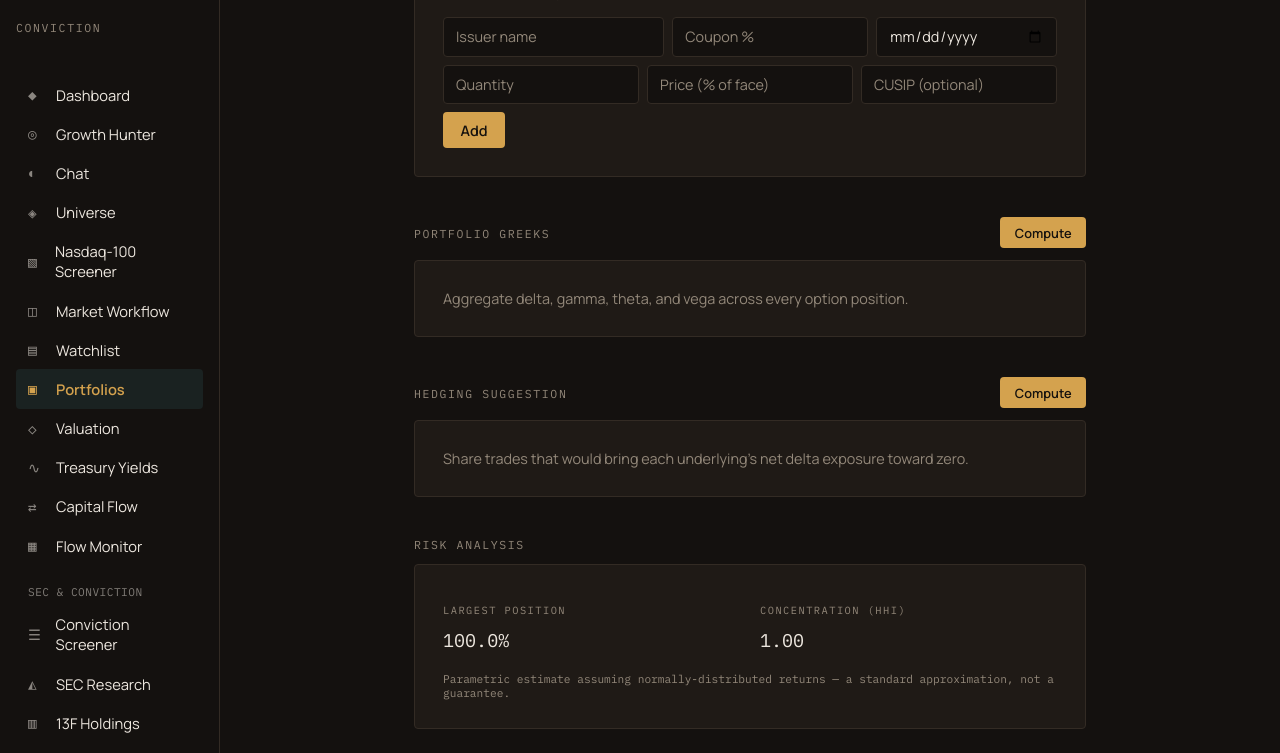
Test: Portfolio detail page › shows the hedging plan's note when there is nothing to hedge
(page scrolled)
Expected: the text "Hedging Suggestion" is shown, left=414, top=386, right=567, bottom=400
Click the button "Compute" in the row of "Hedging Suggestion" at (1043, 393), box left=1000, top=377, right=1086, bottom=408
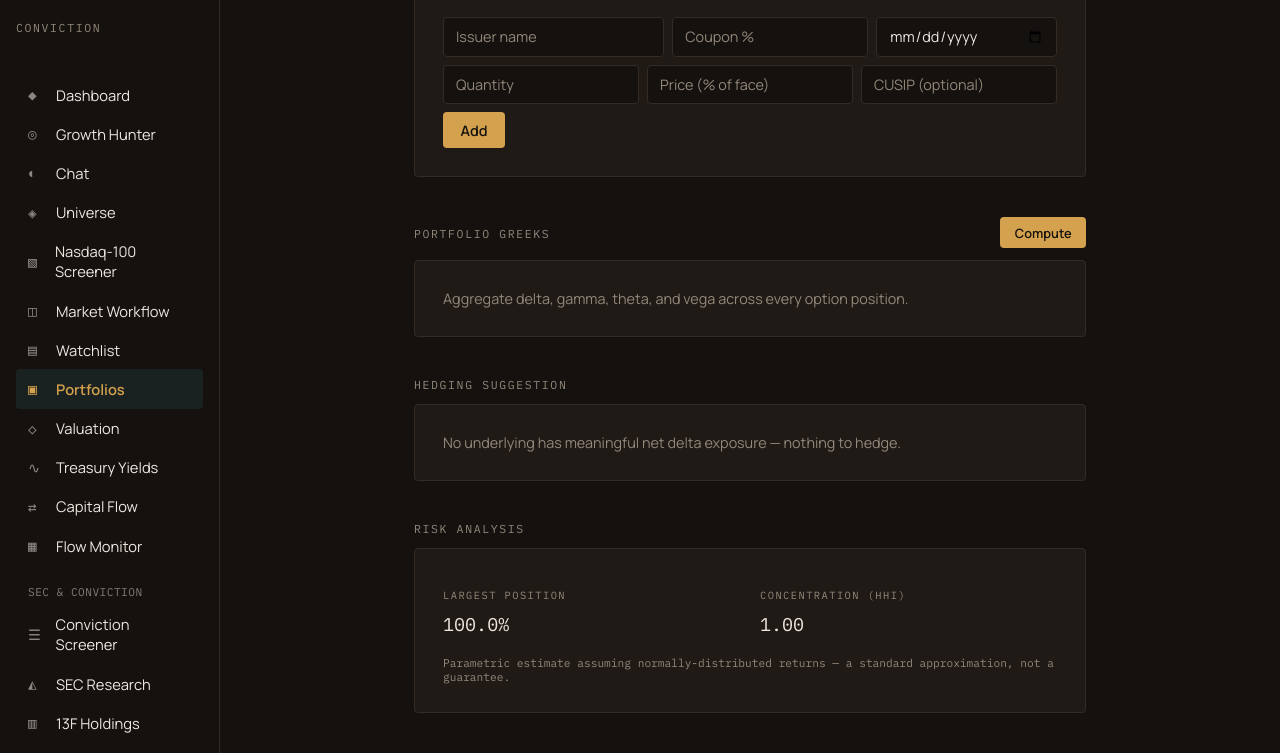
Expected: the text "No underlying has meaningful net delta exposure — nothing to hedge." is shown, left=443, top=433, right=901, bottom=452
